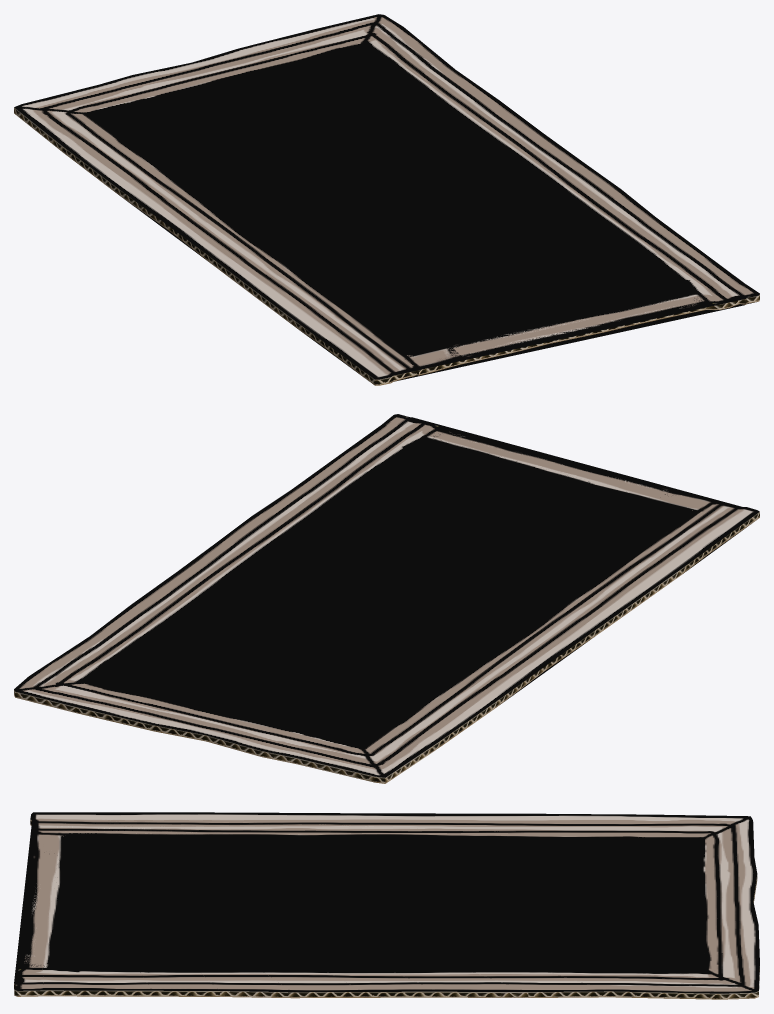
Rendered from doorFrame.fbx.
3 views of the same model, one above another, from view 1: azimuth 30°, elevation 25°; view 2: azimuth 150°, elevation 25°; view 3: azimuth 270°, elevation 25° (orthographic). The views are drawn at different scales.
Visible parts, largest first — view 1: Plane; view 2: Plane; view 3: Plane.
Part boxes in pixels (bbox=[...]): Plane: bbox=[14, 14, 759, 385]; Plane: bbox=[14, 414, 759, 783]; Plane: bbox=[14, 812, 759, 999].
Bounding box in the file's own units: 3.27 × 0.05 × 5.68.
